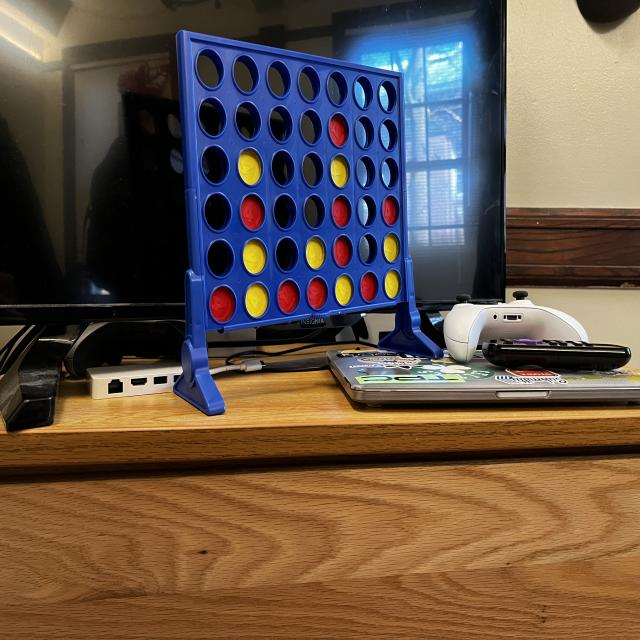Board: (177, 27, 416, 325)
No Piece: (194, 45, 226, 92), (203, 236, 237, 280), (198, 144, 232, 185), (202, 190, 235, 232), (230, 51, 261, 95), (233, 99, 263, 143), (197, 96, 228, 138), (267, 102, 296, 145), (265, 56, 293, 99), (273, 233, 302, 273), (295, 61, 321, 105), (323, 64, 349, 108), (300, 148, 326, 190), (298, 106, 324, 147), (272, 192, 300, 230), (375, 76, 401, 116), (354, 151, 379, 189), (269, 149, 296, 184), (351, 71, 374, 110), (302, 192, 326, 229), (356, 193, 380, 229), (356, 229, 379, 266), (378, 154, 402, 189), (378, 114, 400, 152), (354, 113, 374, 151)
Red Piece: (208, 280, 236, 325), (238, 190, 268, 231), (274, 275, 302, 314), (330, 192, 355, 231), (306, 273, 330, 309), (358, 268, 382, 302), (331, 233, 354, 268), (330, 110, 349, 150), (381, 191, 402, 226)
Yellow Piece: (241, 233, 269, 278), (236, 145, 263, 190), (303, 231, 328, 274), (244, 282, 271, 319), (332, 150, 350, 190), (382, 228, 402, 264), (333, 271, 353, 305), (383, 268, 402, 299)
